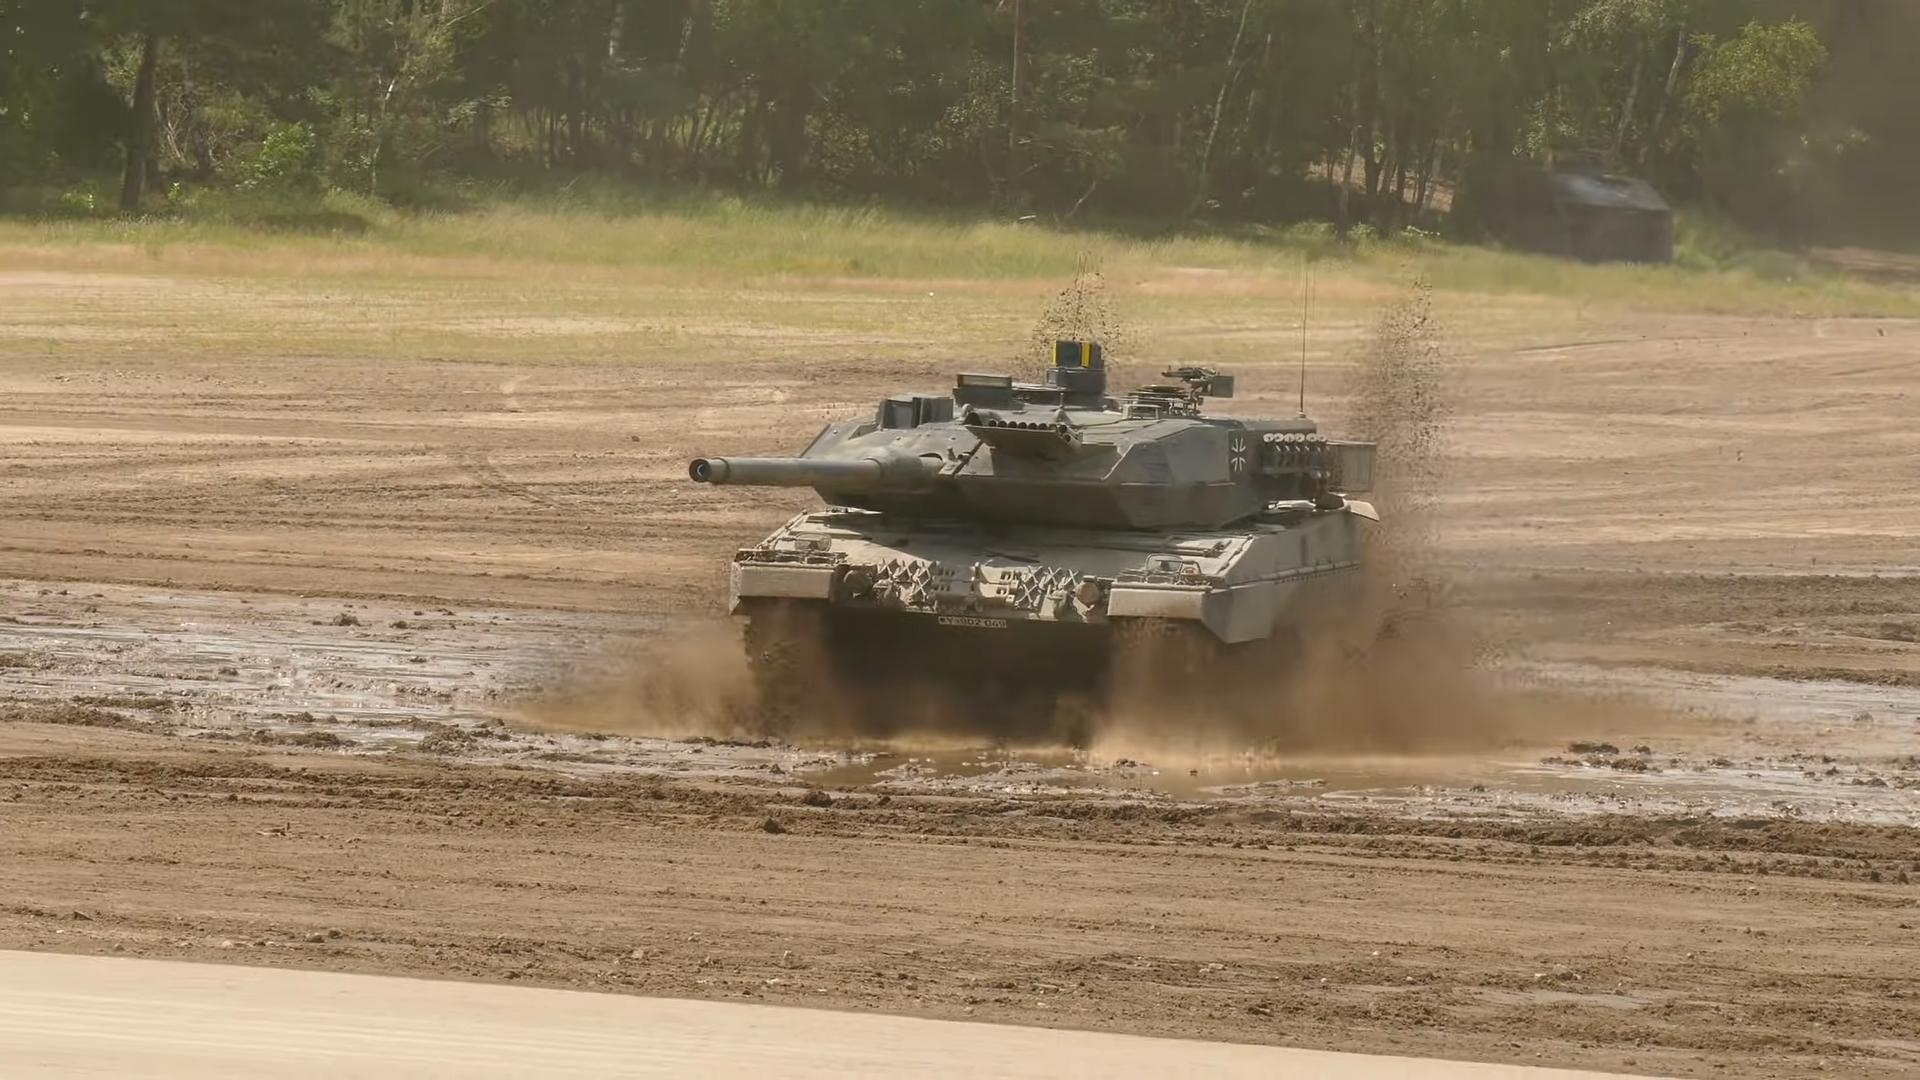tank: (690, 340, 1377, 745), (1449, 144, 1672, 261)
